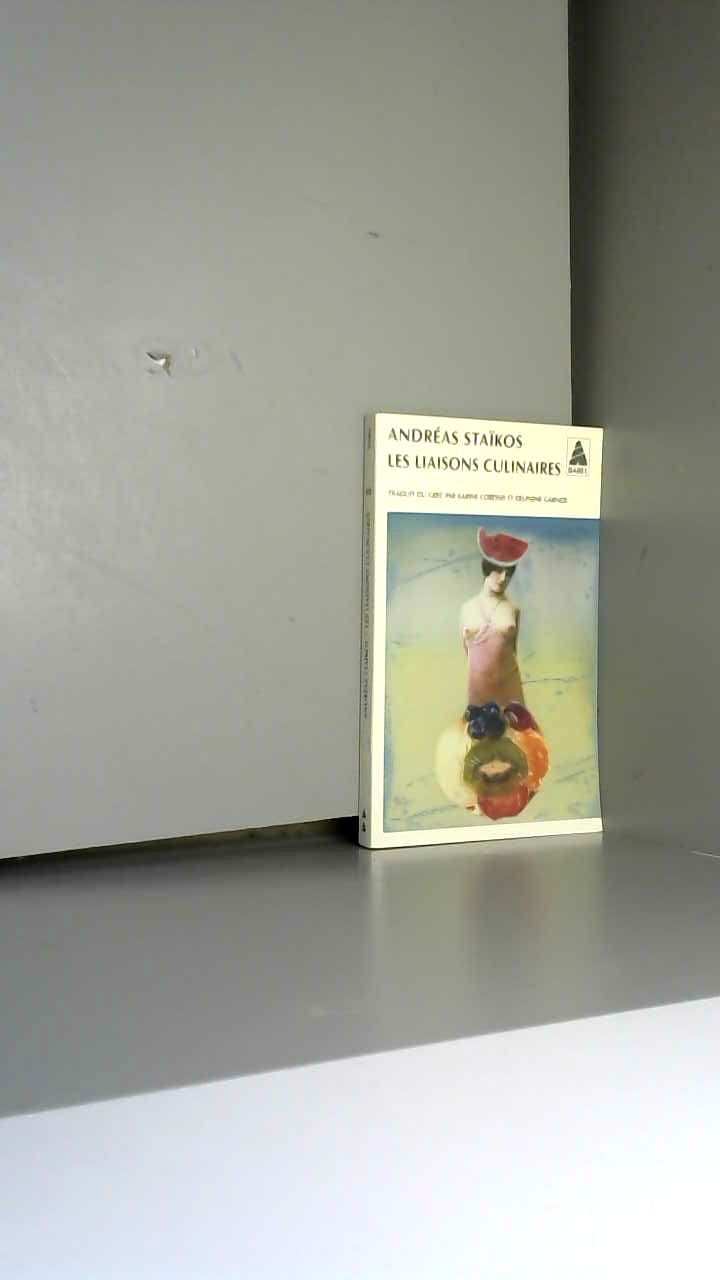book: (340, 390, 717, 932)
